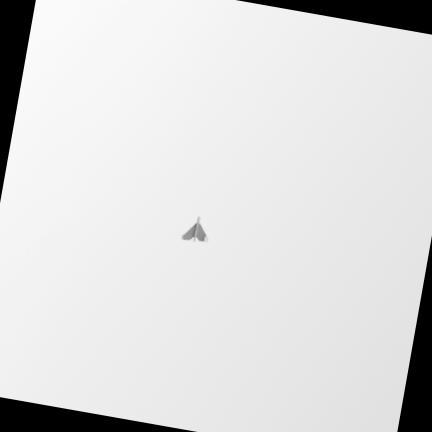Shahed: (181, 217, 207, 242)
